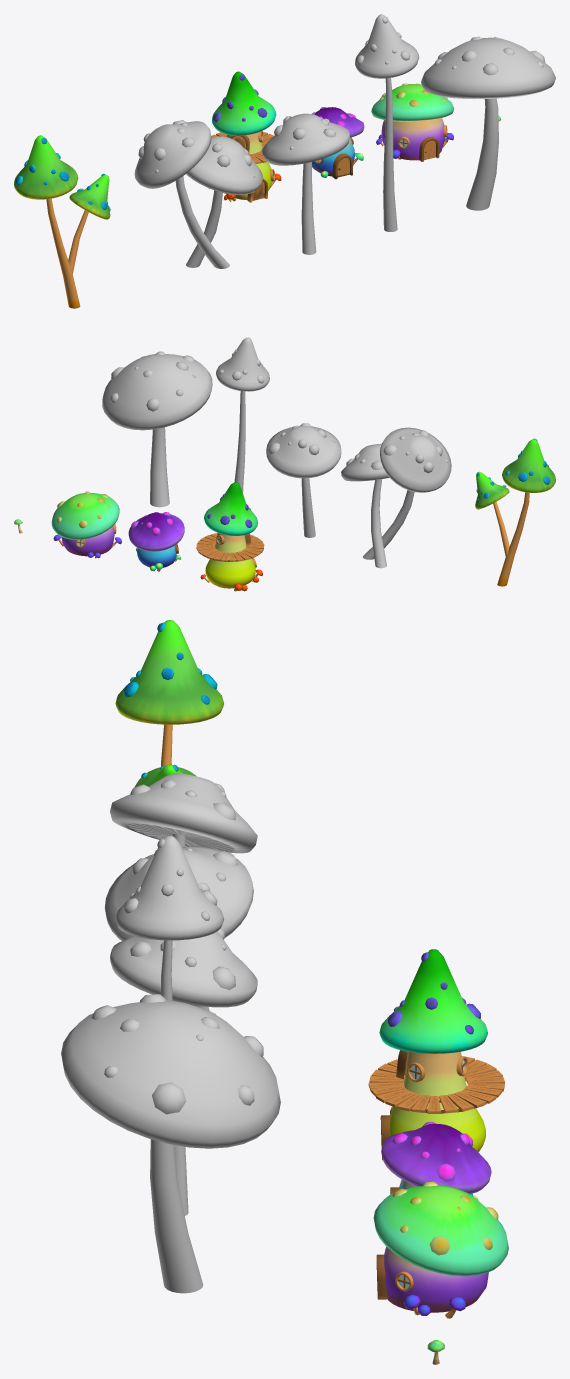
The model's file is mushroom_village (1).fbx.
3 renders of one model, top to bottom at view 1: azimuth 30°, elevation 25°; view 2: azimuth 150°, elevation 25°; view 3: azimuth 270°, elevation 25°, orthographic. The views are drawn at different scales.
Parts seen in each view (by area): view 1: giant_mushroom.4, giant_mushroom.1, giant_mushroom.5, giant_mushroom.3, mushroom_house.2, giant_mushroom.2, mushroom_house.3, mushroom_house.1; view 2: giant_mushroom.1, giant_mushroom.4, mushroom_house.3, giant_mushroom.3, giant_mushroom.5, mushroom_house.2, giant_mushroom.2, mushroom_house.1; view 3: giant_mushroom.1, mushroom_house.3, mushroom_house.2, giant_mushroom.4, giant_mushroom.2, giant_mushroom.5, giant_mushroom.3, mushroom_house.1.
Boxes of the visible parts, <box> form: giant_mushroom.4: <box>134,120,262,268</box>; giant_mushroom.1: <box>421,36,555,210</box>; giant_mushroom.5: <box>14,135,110,308</box>; giant_mushroom.3: <box>262,113,350,254</box>; mushroom_house.2: <box>371,83,454,161</box>; giant_mushroom.2: <box>355,14,419,231</box>; mushroom_house.3: <box>208,71,281,202</box>; mushroom_house.1: <box>312,107,364,179</box>; giant_mushroom.1: <box>102,351,212,507</box>; giant_mushroom.4: <box>341,427,451,568</box>; mushroom_house.3: <box>196,482,264,591</box>; giant_mushroom.3: <box>266,423,341,537</box>; giant_mushroom.5: <box>475,438,555,586</box>; mushroom_house.2: <box>51,491,121,558</box>; giant_mushroom.2: <box>216,337,269,492</box>; mushroom_house.1: <box>128,512,184,571</box>; giant_mushroom.1: <box>61,994,280,1293</box>; mushroom_house.3: <box>368,949,504,1160</box>; mushroom_house.2: <box>373,1181,508,1318</box>; giant_mushroom.4: <box>104,773,257,1010</box>; giant_mushroom.2: <box>115,835,224,1215</box>; giant_mushroom.5: <box>115,620,223,786</box>; giant_mushroom.3: <box>110,928,257,1007</box>; mushroom_house.1: <box>381,1121,491,1200</box>.
Size of the model in its own units: 4009 by 1507 by 1651.
